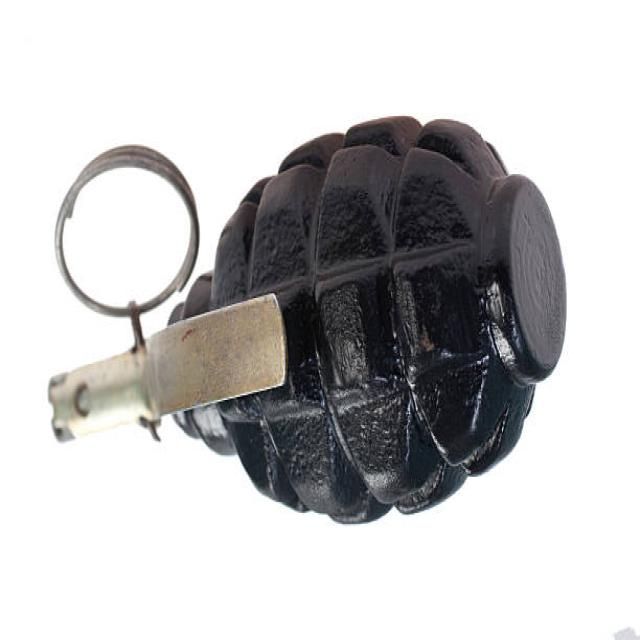grenade: (41, 90, 577, 539)
